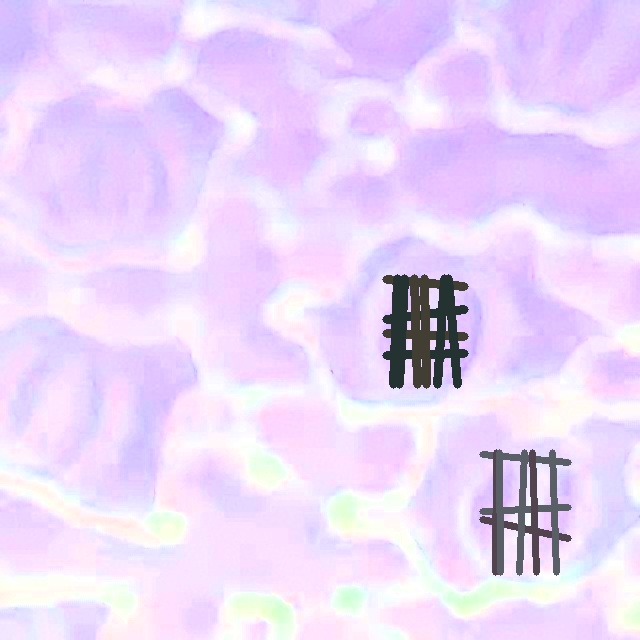close: (480, 450, 571, 575), (383, 274, 467, 388)
